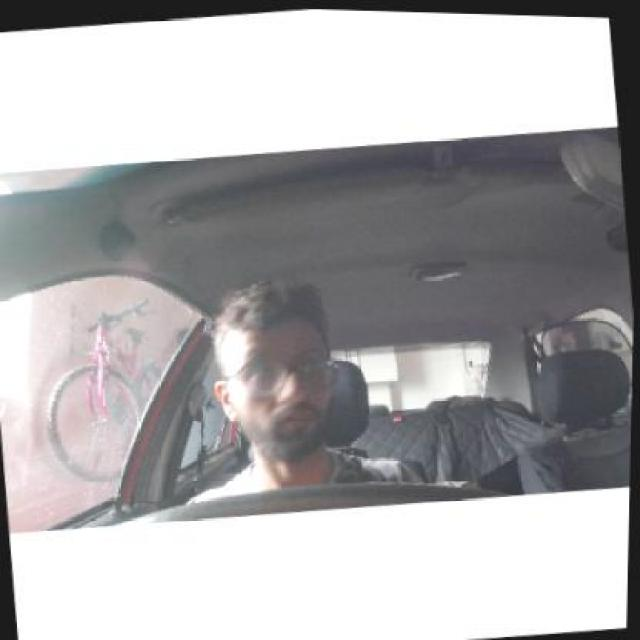person: (206, 299, 340, 456)
